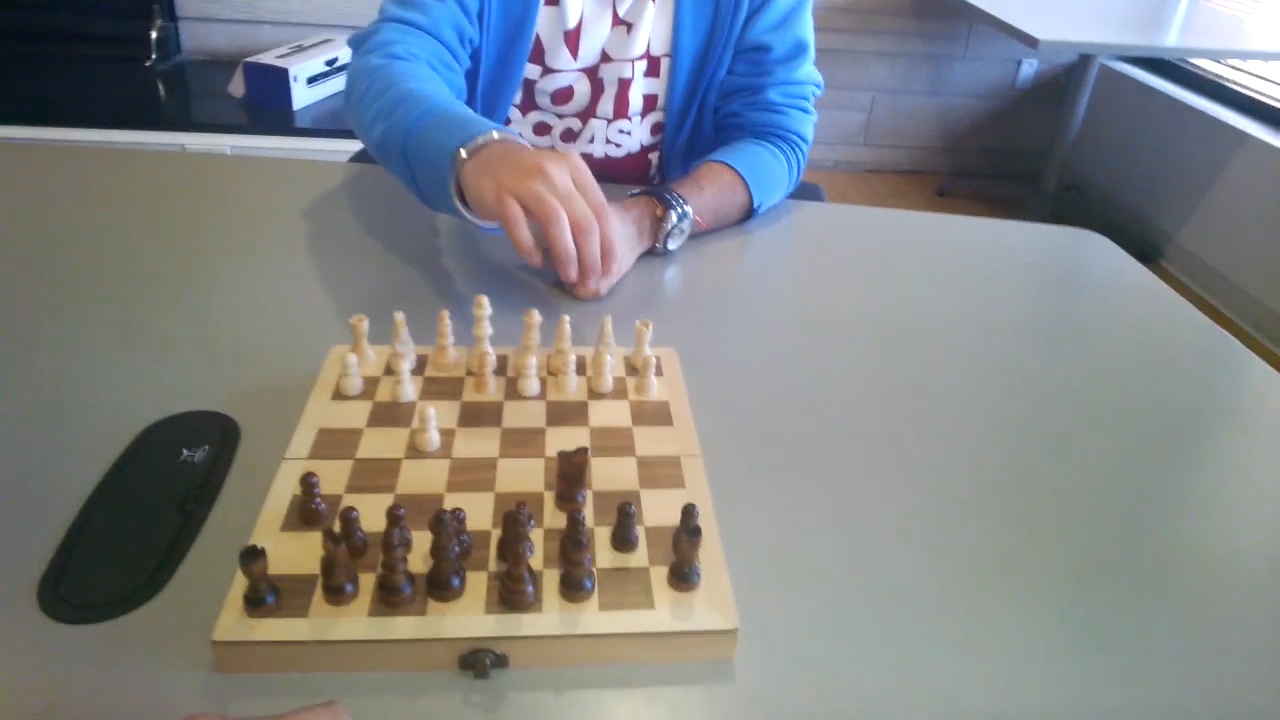hand: (462, 155, 605, 283), (572, 196, 636, 296), (186, 700, 352, 716)
